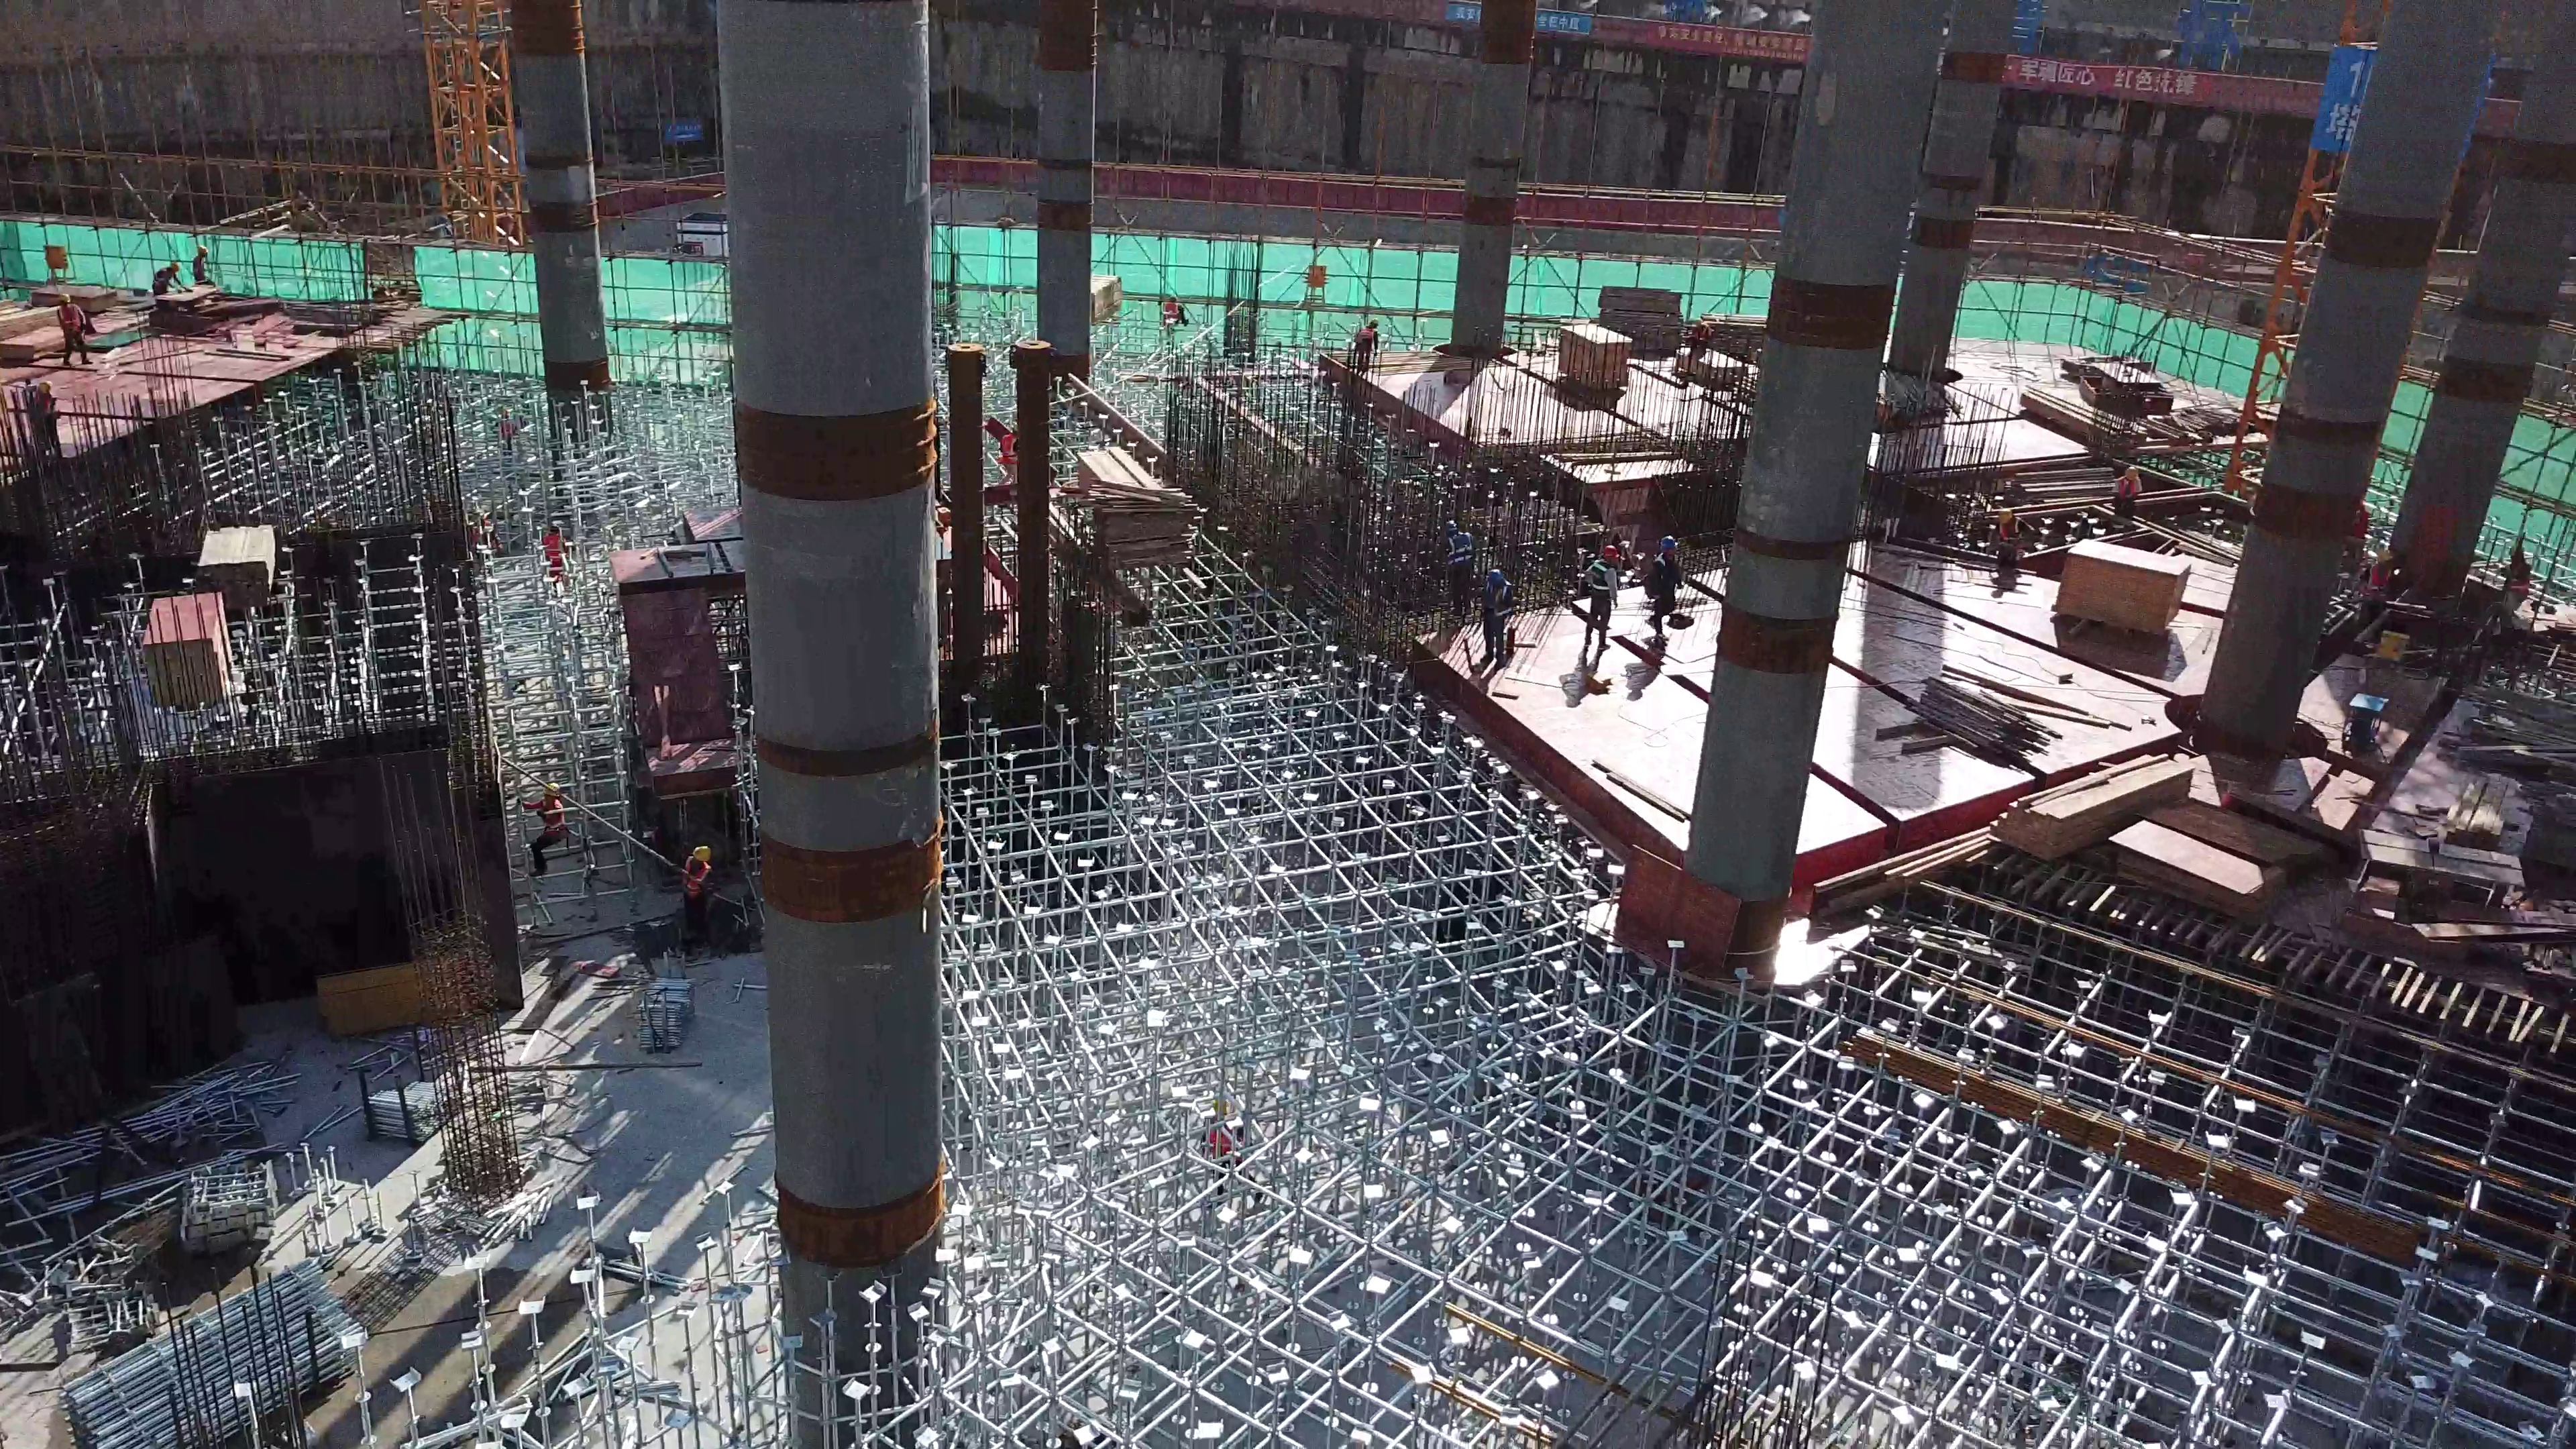board: (2121, 807, 2288, 923), (2047, 543, 2204, 630), (133, 594, 236, 712)
cutter: (159, 281, 221, 312)
ebox: (2373, 625, 2413, 672)
helmet: (545, 777, 562, 795), (2373, 549, 2396, 561), (693, 845, 710, 860), (1488, 568, 1506, 582), (1996, 507, 2012, 521), (2123, 465, 2139, 480), (38, 378, 53, 392), (1601, 544, 1618, 556), (1659, 535, 1677, 547), (56, 292, 72, 303), (195, 242, 209, 252), (1446, 518, 1460, 529), (169, 262, 181, 272), (1371, 319, 1381, 329)
person: (516, 780, 590, 881), (665, 839, 716, 941), (1642, 534, 1684, 639), (1579, 540, 1619, 653), (1481, 564, 1519, 665), (2358, 547, 2402, 635), (52, 293, 99, 366), (1440, 516, 1474, 619), (1990, 505, 2037, 570), (30, 374, 60, 464), (2503, 543, 2534, 618), (540, 526, 571, 582), (1352, 319, 1382, 375), (2112, 464, 2144, 516), (144, 256, 182, 297), (187, 243, 223, 287), (1157, 294, 1195, 325), (1000, 423, 1020, 480)
scaffold: (74, 1257, 376, 1449), (167, 1153, 278, 1252), (362, 1058, 450, 1149)
slogan: (2004, 46, 2204, 99), (1651, 15, 1805, 60)
vest: (678, 857, 710, 895), (1587, 559, 1620, 597), (537, 800, 568, 832), (1992, 521, 2027, 545), (1485, 585, 1511, 616), (1446, 535, 1472, 563), (56, 305, 87, 331), (541, 534, 566, 559), (1000, 435, 1020, 465), (2114, 479, 2145, 499), (1165, 303, 1179, 323), (1356, 329, 1375, 343)
wood: (1993, 751, 2198, 857), (193, 521, 279, 596)
